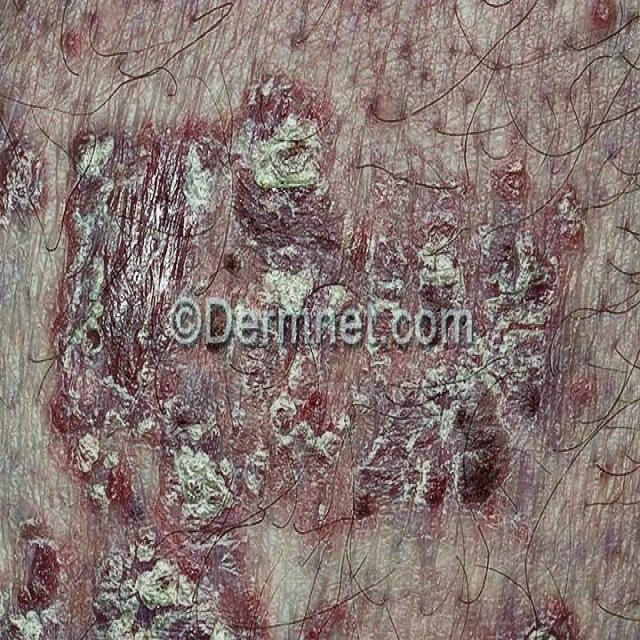Psoriasis-pictures-Lichen-Planus: (36, 86, 598, 608)
